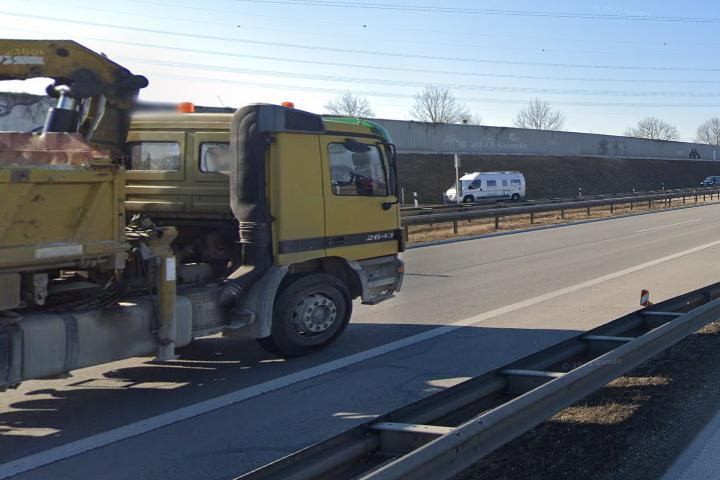vehicle: (1, 31, 413, 405), (442, 169, 528, 206), (697, 173, 720, 190)
